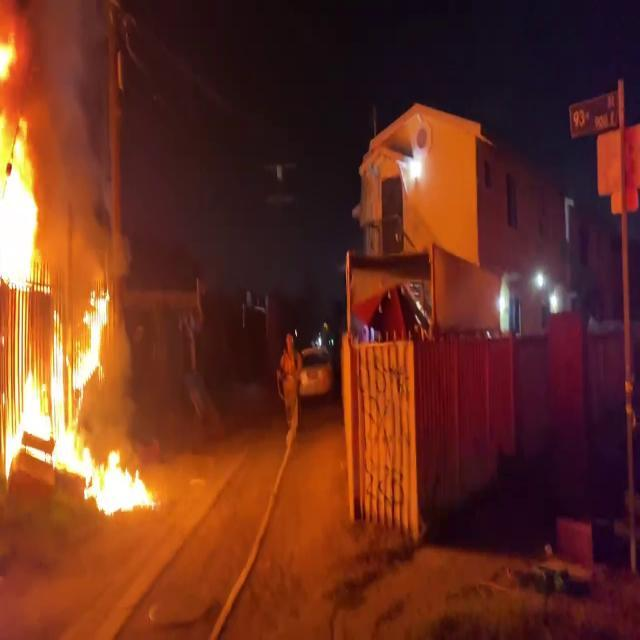Fire: (0, 18, 154, 522), (0, 22, 50, 308)
